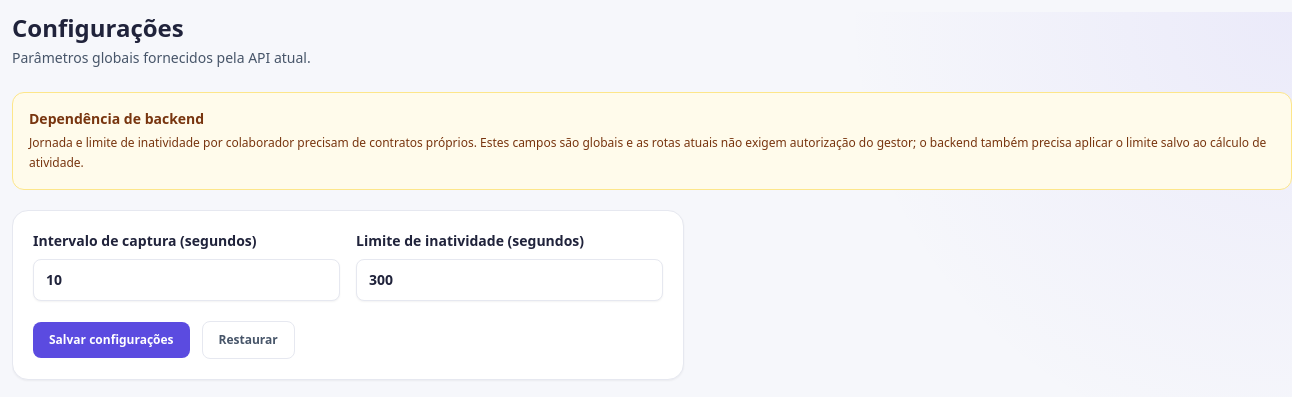
Test: SettingsPage › indica alterações pendentes e permite restaurar sem enviar PUT
The width and height of the screenshot is (1292, 397).
Expected: the button "Salvar configurações" is disabled, [33,322,190,358]
Replace the text in the number field labelled "Intervalo de captura (segundos)" with "25" at (186, 280), box [33,259,340,301]
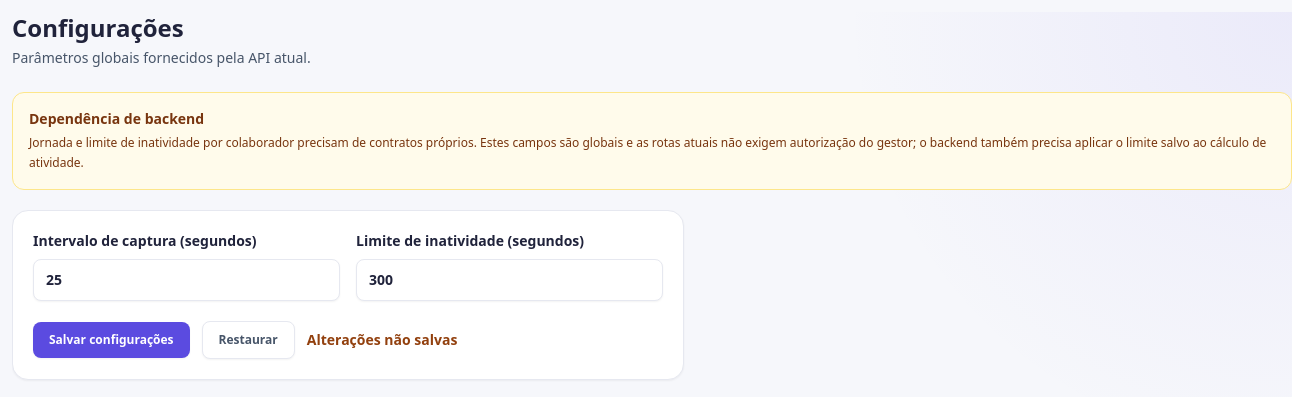
Expected: the button "Salvar configurações" is enabled, [33,322,190,358]
Now the text "Alterações não salvas" is shown, box [307,330,457,350]
Click the button "Restaurar" at (248, 340), box [202,321,295,359]
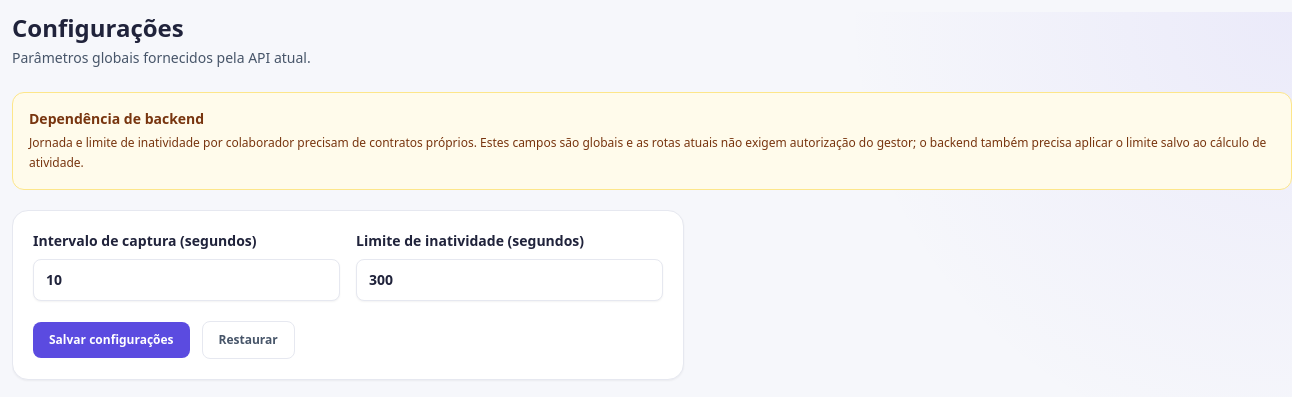
Expected: the button "Salvar configurações" is disabled, [33,322,190,358]
Now the number field labelled "Intervalo de captura (segundos)" holds "10", box [33,259,340,301]
